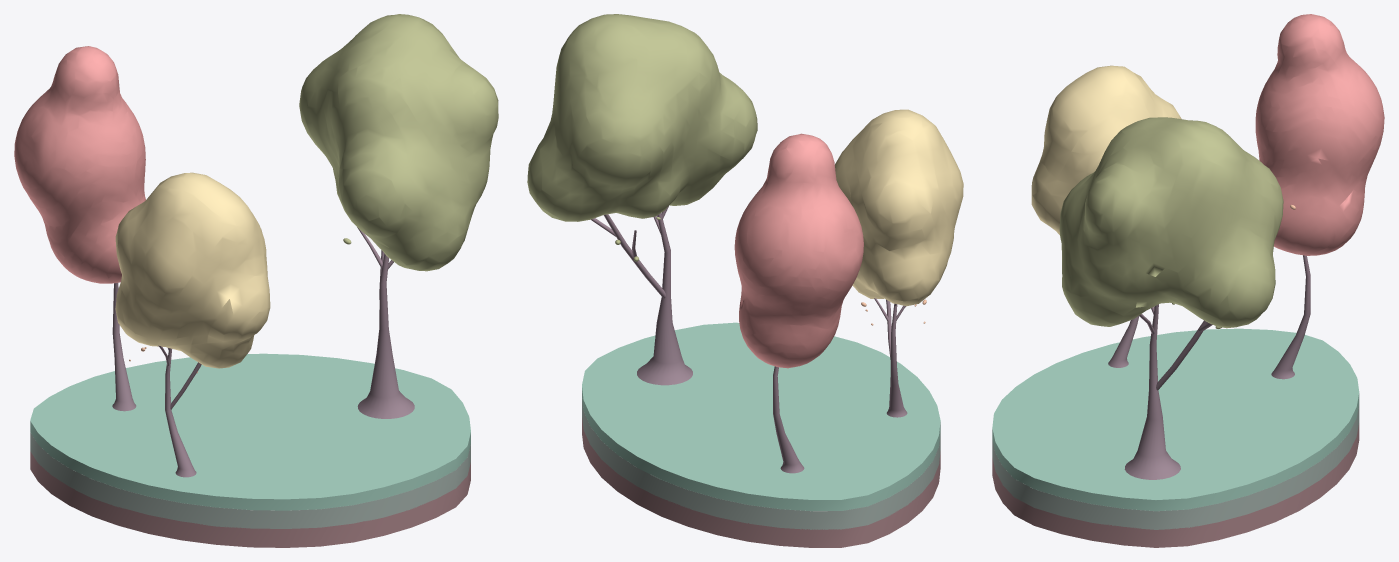
Rendered from Cartoon_Trees_SuperHigh.glb.
3 renders of one model, left to right at view 1: azimuth 30°, elevation 25°; view 2: azimuth 150°, elevation 25°; view 3: azimuth 270°, elevation 25°, orthographic.
Visible parts, largest first — view 1: Cylinder, Crone, Spheres_2, Spheres, Cylinder_2, Cylinder_1, Wood_8, Wood_2, Wood_5; view 2: Cylinder, Crone, Spheres, Spheres_2, Cylinder_1, Cylinder_2, Wood_8, Wood_2, Wood_5, Stick_13; view 3: Cylinder, Crone, Spheres, Spheres_2, Cylinder_1, Cylinder_2, Wood_8, Wood_2, Wood_5, Stick_13.
Part boxes in pixels (left/top/right/bottom): Cylinder: left=30, top=353, right=470, bottom=510; Crone: left=299, top=14, right=498, bottom=271; Spheres_2: left=115, top=172, right=270, bottom=368; Spheres: left=14, top=46, right=145, bottom=283; Cylinder_2: left=30, top=451, right=470, bottom=547; Cylinder_1: left=30, top=432, right=470, bottom=528; Wood_8: left=357, top=253, right=414, bottom=418; Wood_2: left=112, top=283, right=136, bottom=411; Wood_5: left=165, top=348, right=196, bottom=477; Cylinder: left=582, top=322, right=940, bottom=511; Crone: left=527, top=14, right=757, bottom=221; Spheres: left=734, top=133, right=863, bottom=368; Spheres_2: left=835, top=109, right=963, bottom=306; Cylinder_1: left=582, top=399, right=940, bottom=529; Cylinder_2: left=582, top=418, right=940, bottom=547; Wood_8: left=637, top=213, right=692, bottom=385; Wood_2: left=773, top=366, right=804, bottom=473; Wood_5: left=886, top=304, right=907, bottom=417; Stick_13: left=603, top=214, right=665, bottom=298; Cylinder: left=992, top=328, right=1359, bottom=511; Crone: left=1059, top=117, right=1283, bottom=328; Spheres: left=1255, top=14, right=1384, bottom=255; Spheres_2: left=1031, top=65, right=1181, bottom=234; Cylinder_1: left=992, top=404, right=1359, bottom=529; Cylinder_2: left=992, top=423, right=1359, bottom=547; Wood_8: left=1124, top=304, right=1180, bottom=479; Wood_2: left=1271, top=255, right=1310, bottom=379; Wood_5: left=1108, top=316, right=1139, bottom=367; Stick_13: left=1156, top=320, right=1207, bottom=390.
Bounding box in the file's own units: 130 × 134 × 117.
